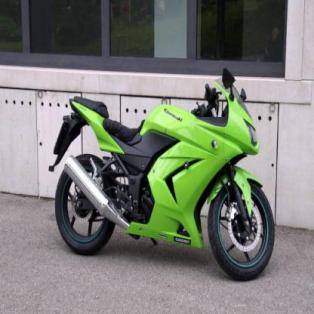Motocicleta: (49, 64, 279, 284)
